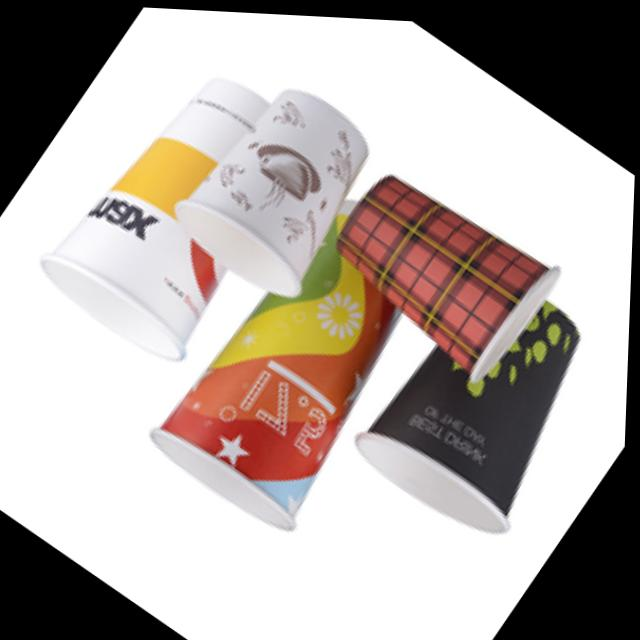paper_cups: (38, 40, 334, 377), (142, 223, 435, 545), (344, 242, 632, 554), (309, 140, 573, 388), (165, 60, 395, 309)
